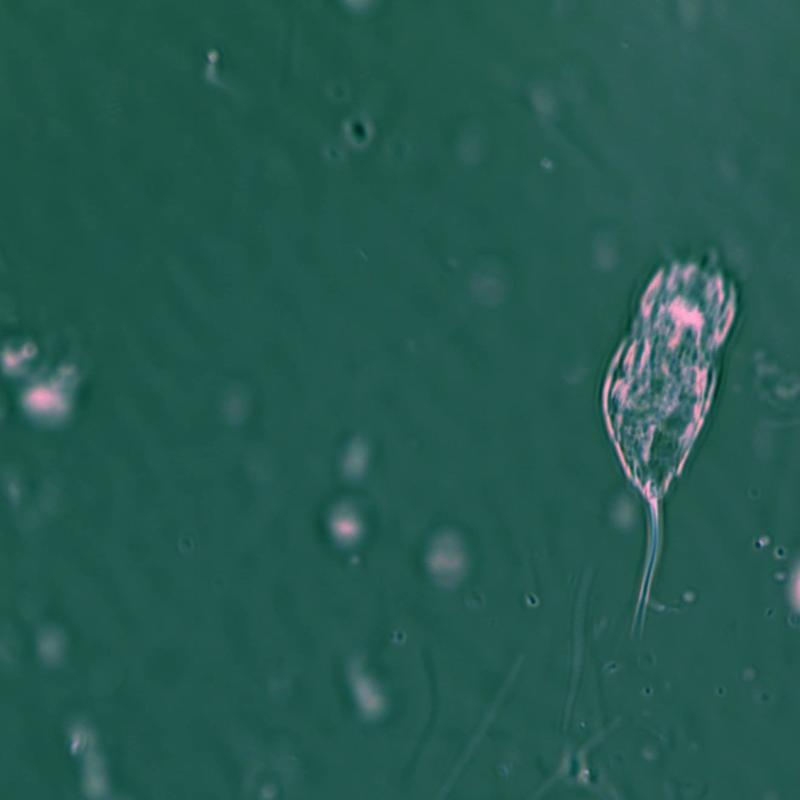depth:20: (591, 232, 751, 640)
